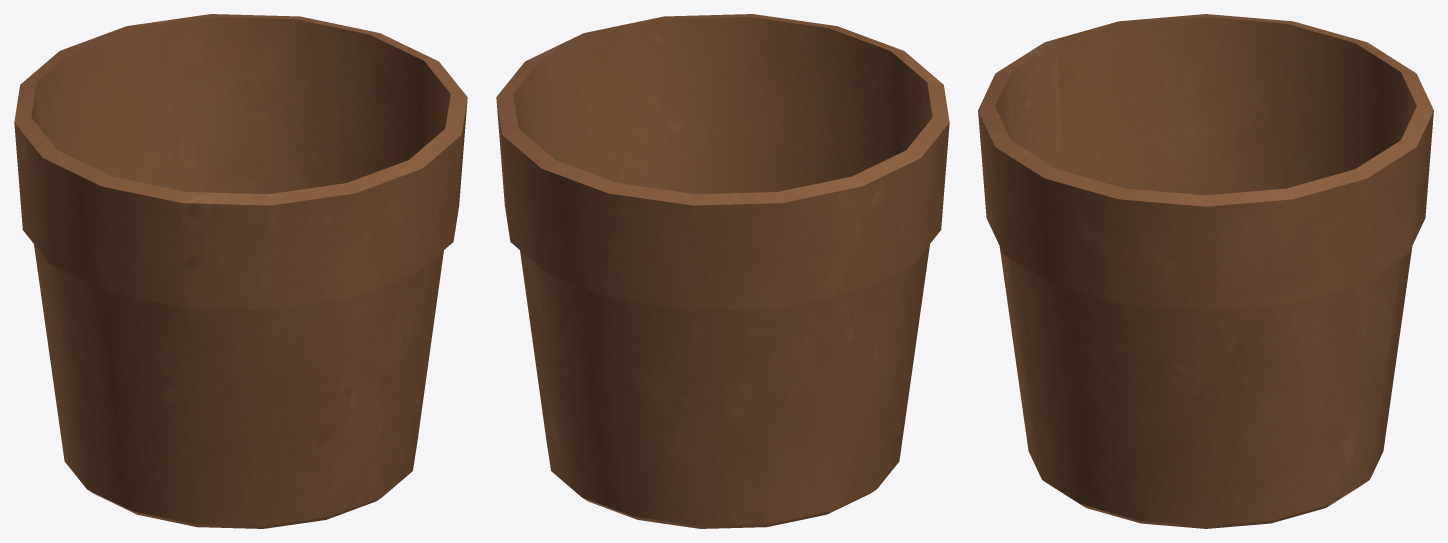
The model's file is SmallVase.fbx.
3 views of the same model, side by side, from view 1: azimuth 30°, elevation 25°; view 2: azimuth 150°, elevation 25°; view 3: azimuth 270°, elevation 25° (orthographic).
Parts seen in each view (by area): view 1: SmallVase; view 2: SmallVase; view 3: SmallVase.
Part boxes in pixels (<box>): SmallVase: <box>14,14,467,528</box>; SmallVase: <box>496,14,949,528</box>; SmallVase: <box>978,14,1433,528</box>.
Size of the model in its own units: 6.11 by 5.19 by 6.11.
